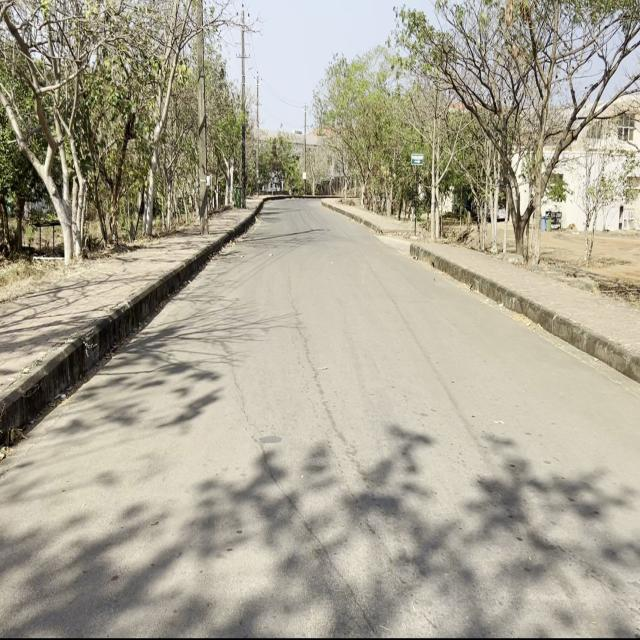Road: (4, 200, 636, 635)
